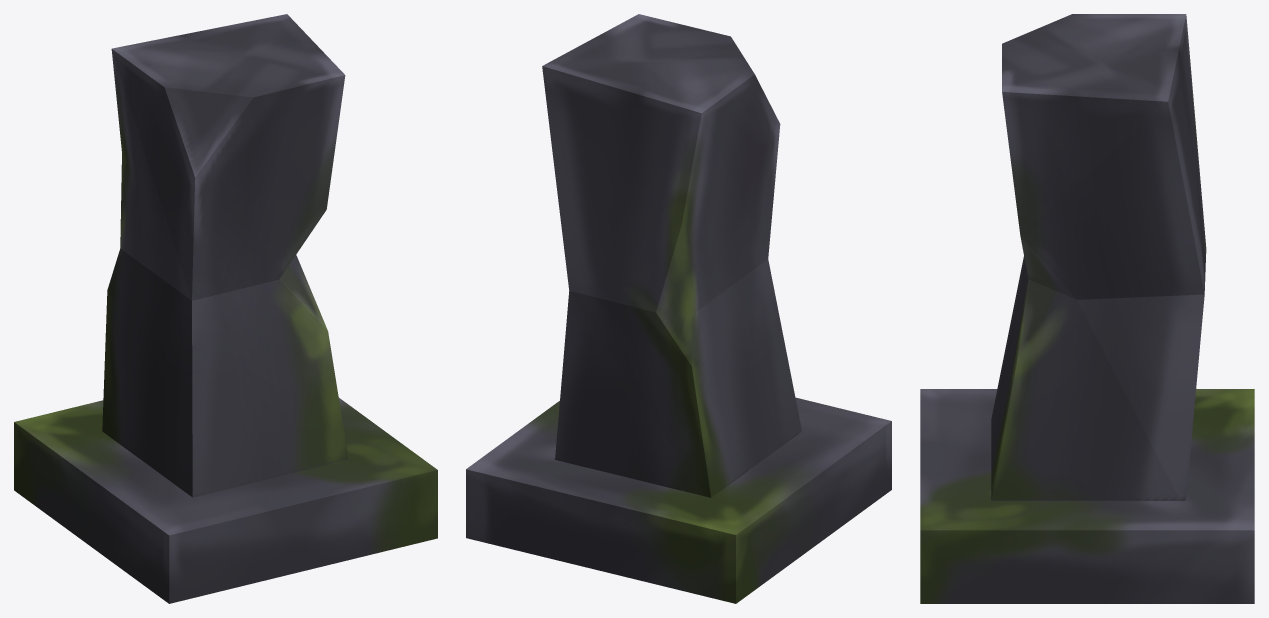
The model's file is Pillar1.fbx.
3 views of the same model, side by side, from view 1: azimuth 30°, elevation 25°; view 2: azimuth 150°, elevation 25°; view 3: azimuth 270°, elevation 25° (orthographic). The views are drawn at different scales.
Visible parts, largest first — view 1: brokenPillar2; view 2: brokenPillar2; view 3: brokenPillar2.
Boxes of the visible parts, x1,y1,x2,y2 form: brokenPillar2: (14,14,437,603); brokenPillar2: (466,14,891,603); brokenPillar2: (920,14,1254,603).
Size of the model in its own units: 69.58 by 111 by 69.58.
